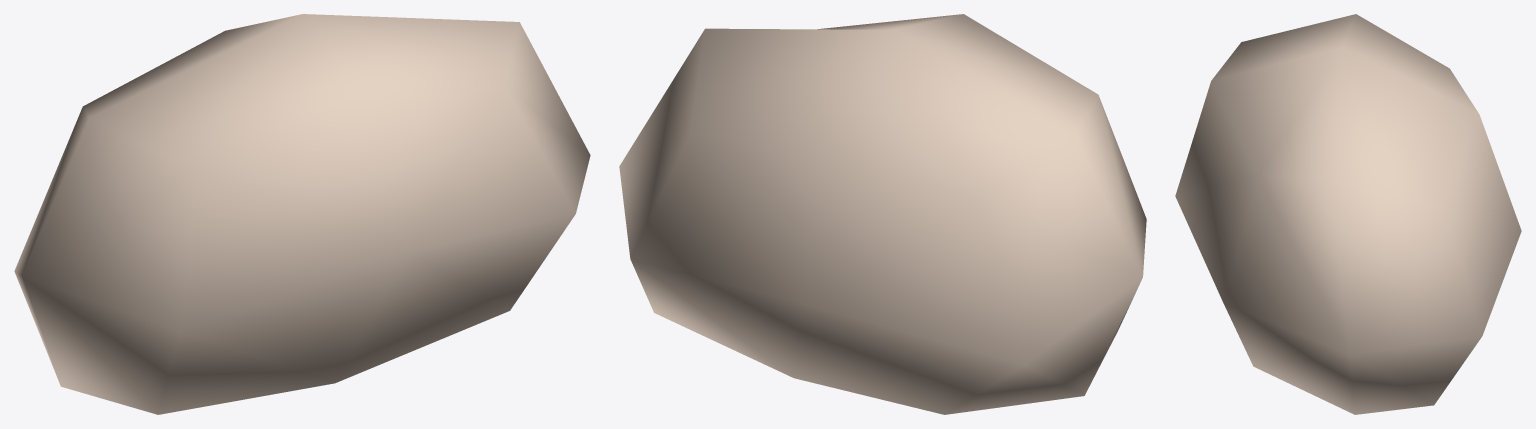
Rendered from Rock_02.fbx.
The picture shows the model from 3 angles, left to right: view 1: azimuth 30°, elevation 25°; view 2: azimuth 150°, elevation 25°; view 3: azimuth 270°, elevation 25°; orthographic projection. The views are drawn at different scales.
Visible parts, largest first — view 1: Rock_02; view 2: Rock_02; view 3: Rock_02.
Boxes of the visible parts, x1,y1,x2,y2 form: Rock_02: (14, 14, 590, 414); Rock_02: (619, 14, 1146, 414); Rock_02: (1175, 14, 1521, 414).
Size of the model in its own units: 88.9 by 55.29 by 54.91.
